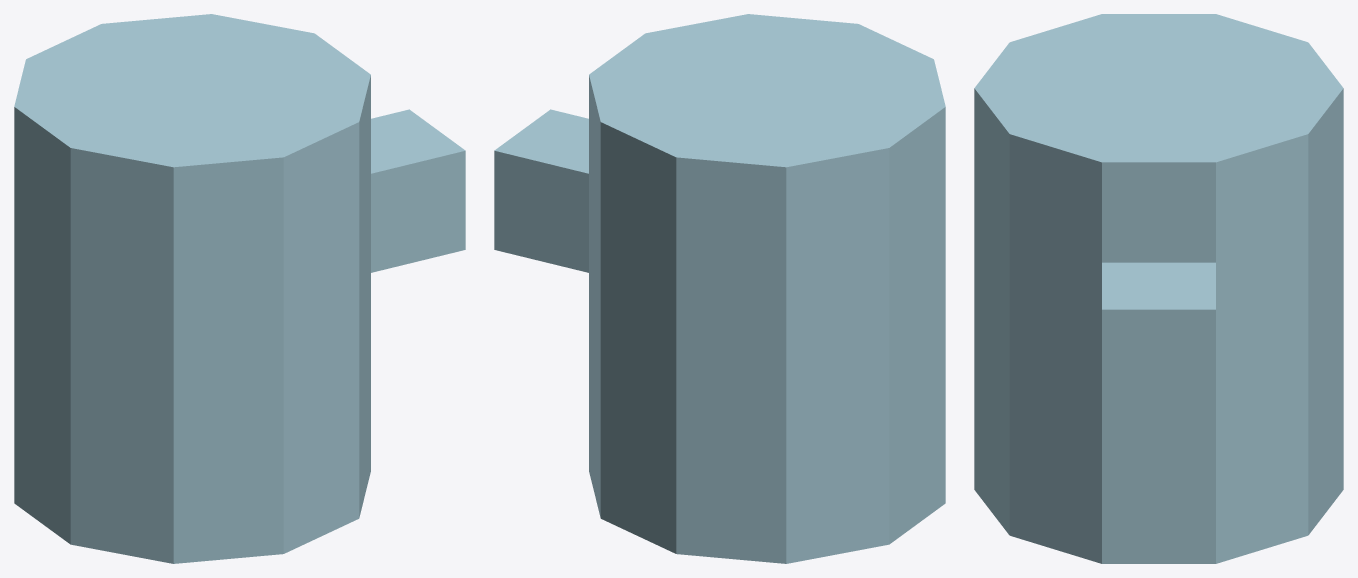
The model's file is TestPlayer.fbx.
3 views of the same model, side by side, from view 1: azimuth 30°, elevation 25°; view 2: azimuth 150°, elevation 25°; view 3: azimuth 270°, elevation 25° (orthographic).
Parts seen in each view (by area): view 1: pCylinder1; view 2: pCylinder1; view 3: pCylinder1.
Part boxes in pixels (x1=…): pCylinder1: x1=14, y1=14, x2=465, y2=563; pCylinder1: x1=494, y1=14, x2=945, y2=563; pCylinder1: x1=974, y1=14, x2=1343, y2=563.
Bounding box in the file's own units: 1.25 × 1.2 × 1.
